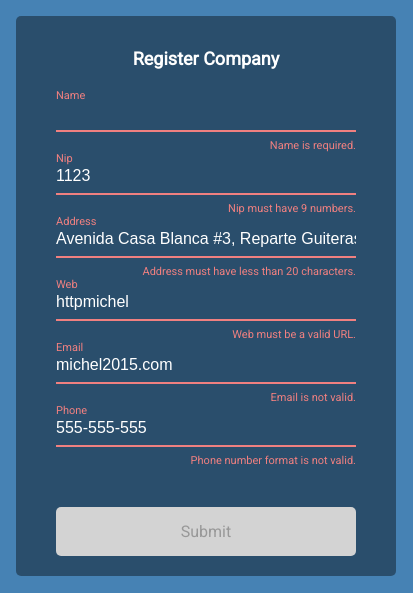
Test: Testing Form Company › Submit button should be available with valid data.
In the field with test id "name-input": (206, 111) [56,89,356,132], type "Apple"
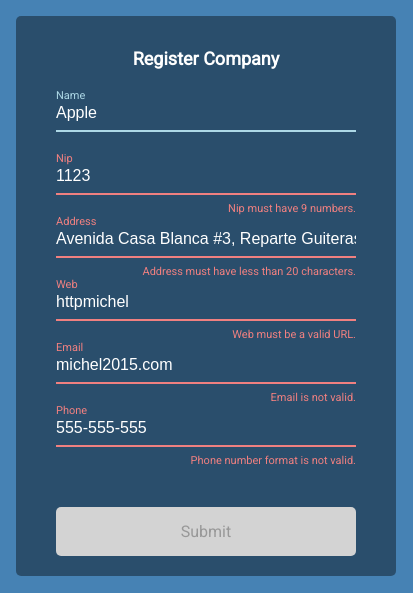
Replace the text in the field with test id "nip-input" with "123456789": (206, 174) [56,152,356,195]
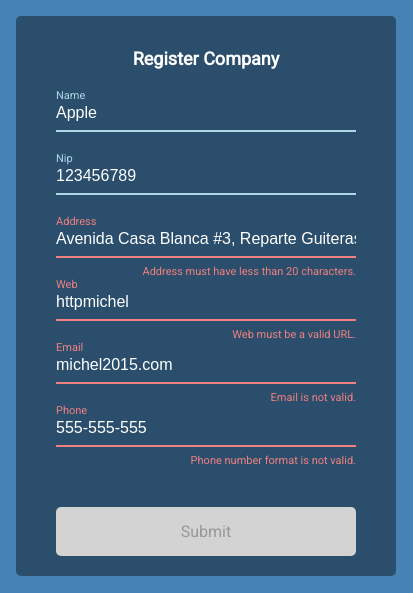
Replace the text in the field with test id "address-input" with "San Francisco, US": (206, 237) [56,215,356,258]
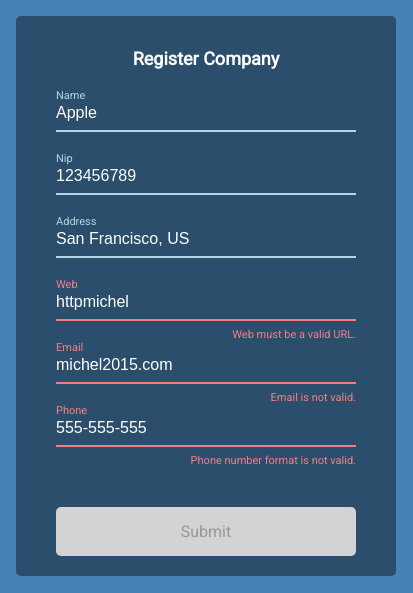
Replace the text in the field with test id "web-input" with "https://apple.com": (206, 300) [56,278,356,321]
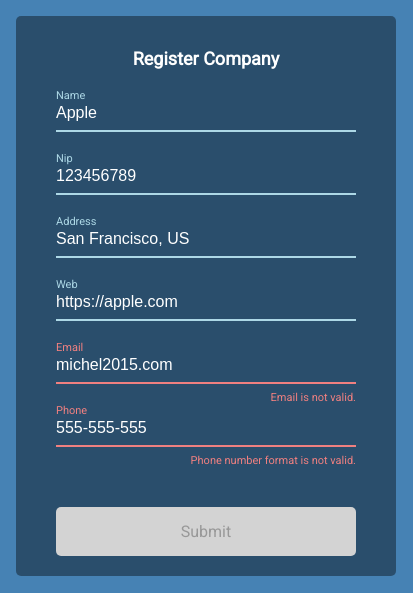
Replace the text in the field with test id "email-input" with "apple@gmail.com": (206, 363) [56,341,356,384]
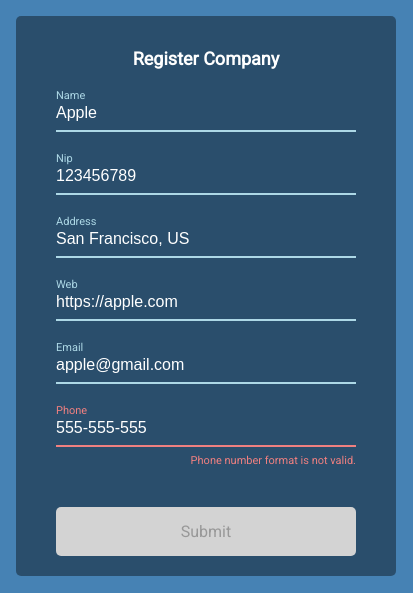
Replace the text in the field with test id "phone-input" with "+5355148977": (206, 426) [56,404,356,447]
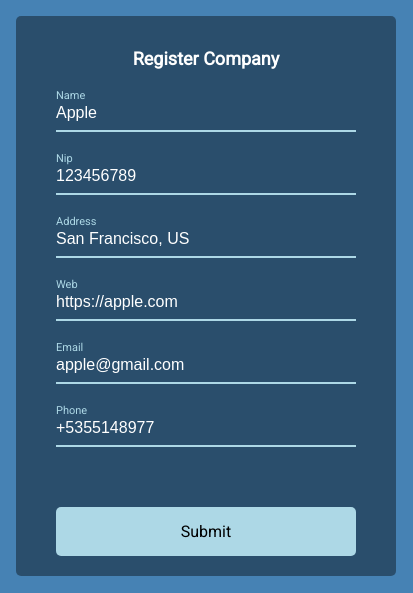
Now the button "Submit" is enabled, box [56,507,356,556]
